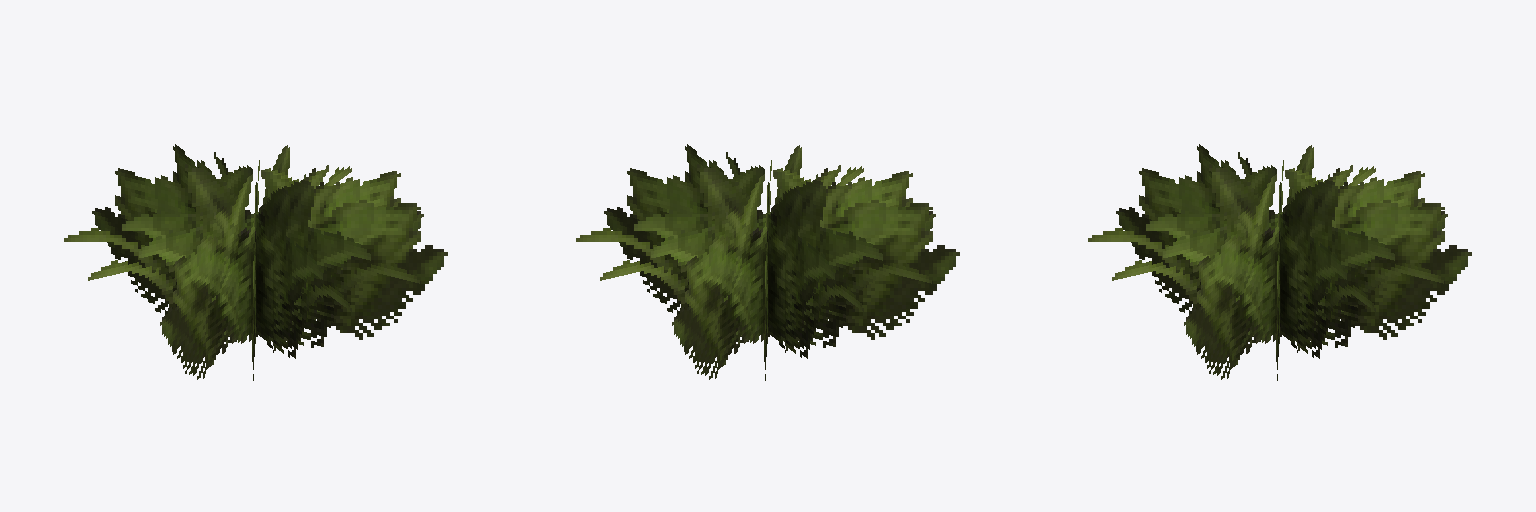
The picture shows the model from 3 angles: view 1: azimuth 30°, elevation 25°; view 2: azimuth 150°, elevation 25°; view 3: azimuth 270°, elevation 25°; orthographic projection.
Visible parts, largest first — view 1: bushpixel.001, bushpixel.002; view 2: bushpixel.001, bushpixel.002; view 3: bushpixel.001, bushpixel.002.
Boxes of the visible parts, x1=… form: bushpixel.001: x1=64, y1=144, x2=447, y2=379; bushpixel.002: x1=88, y1=160, x2=423, y2=380; bushpixel.001: x1=576, y1=144, x2=959, y2=379; bushpixel.002: x1=600, y1=160, x2=935, y2=380; bushpixel.001: x1=1088, y1=144, x2=1471, y2=379; bushpixel.002: x1=1112, y1=160, x2=1447, y2=380.
Size of the model in its own units: 1.61 by 1 by 1.61.
1 materials, 1 textured.